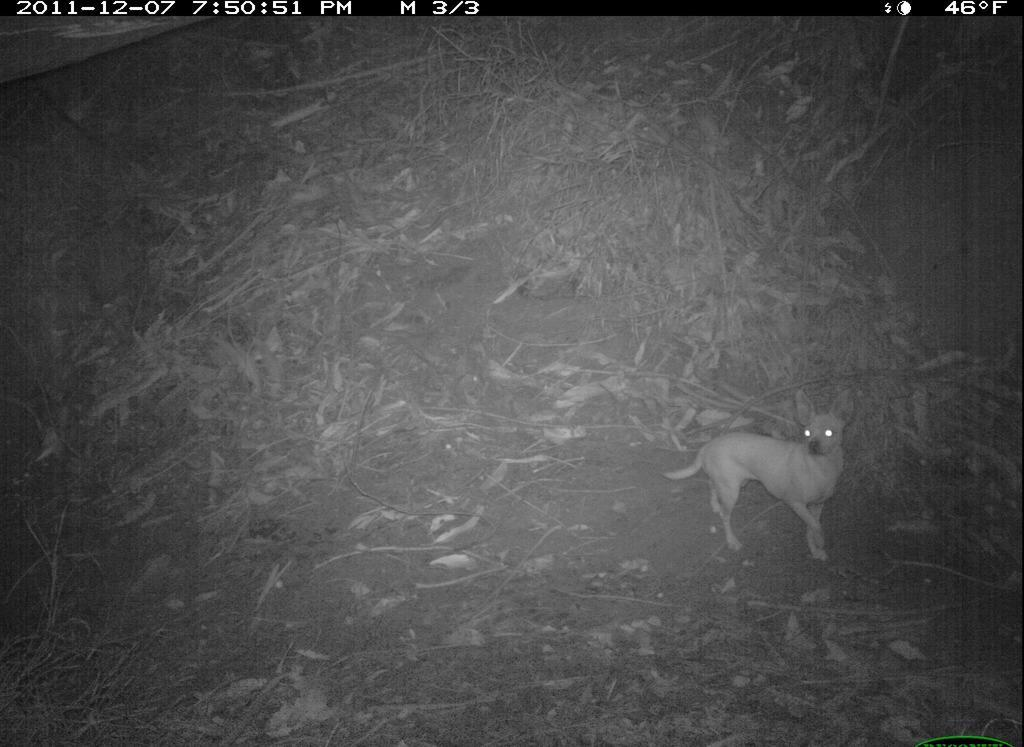dog: (644, 388, 867, 565)
